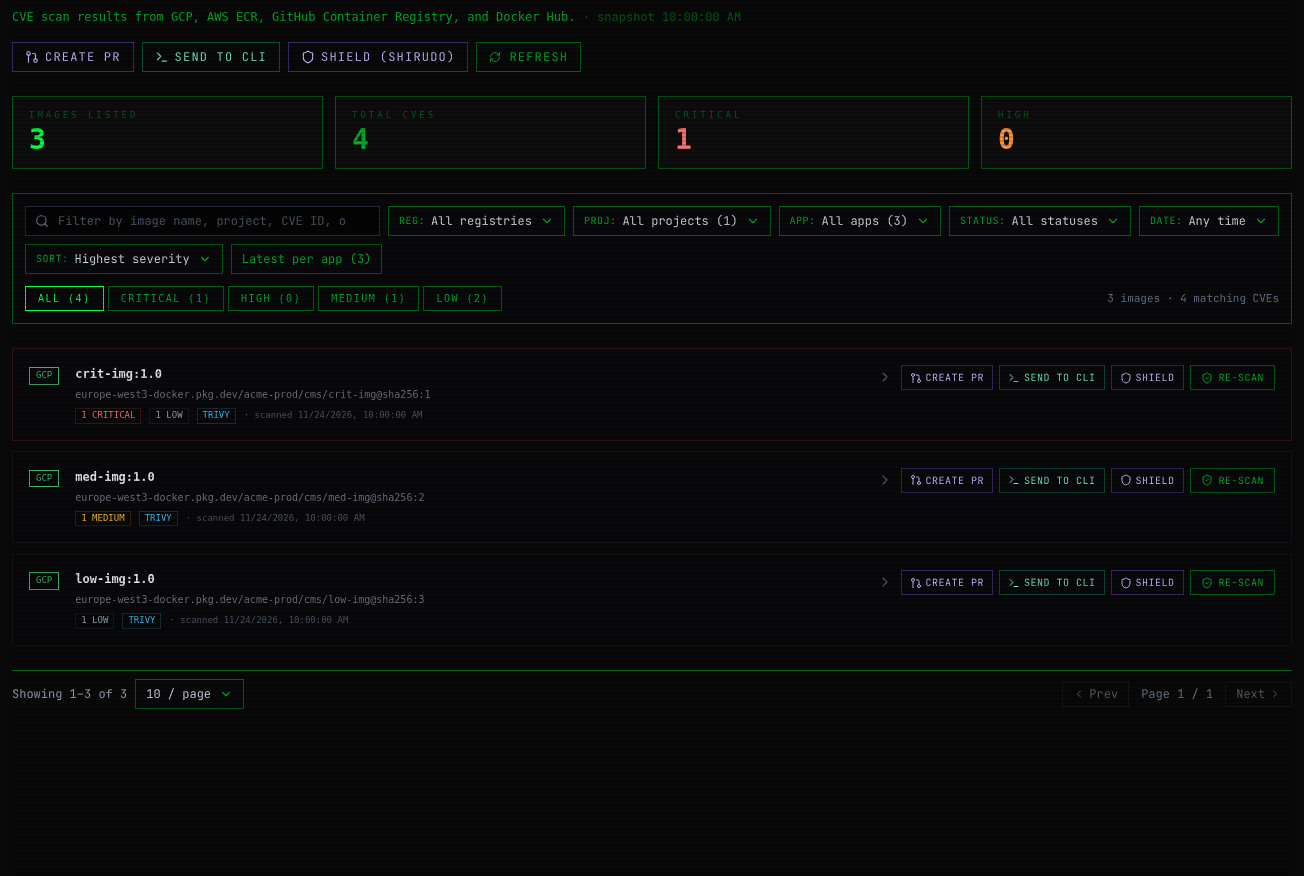
it: ContainerScanPage › allows multi-selecting Critical, High, and Medium severities without extra preset buttons
Expected: the text "crit-img:1.0" is shown, x1=75 y1=367 x2=162 y2=381
# Select Critical + Medium
Click the button "Critical (1)": [166, 299] box x1=108 y1=286 x2=224 y2=311
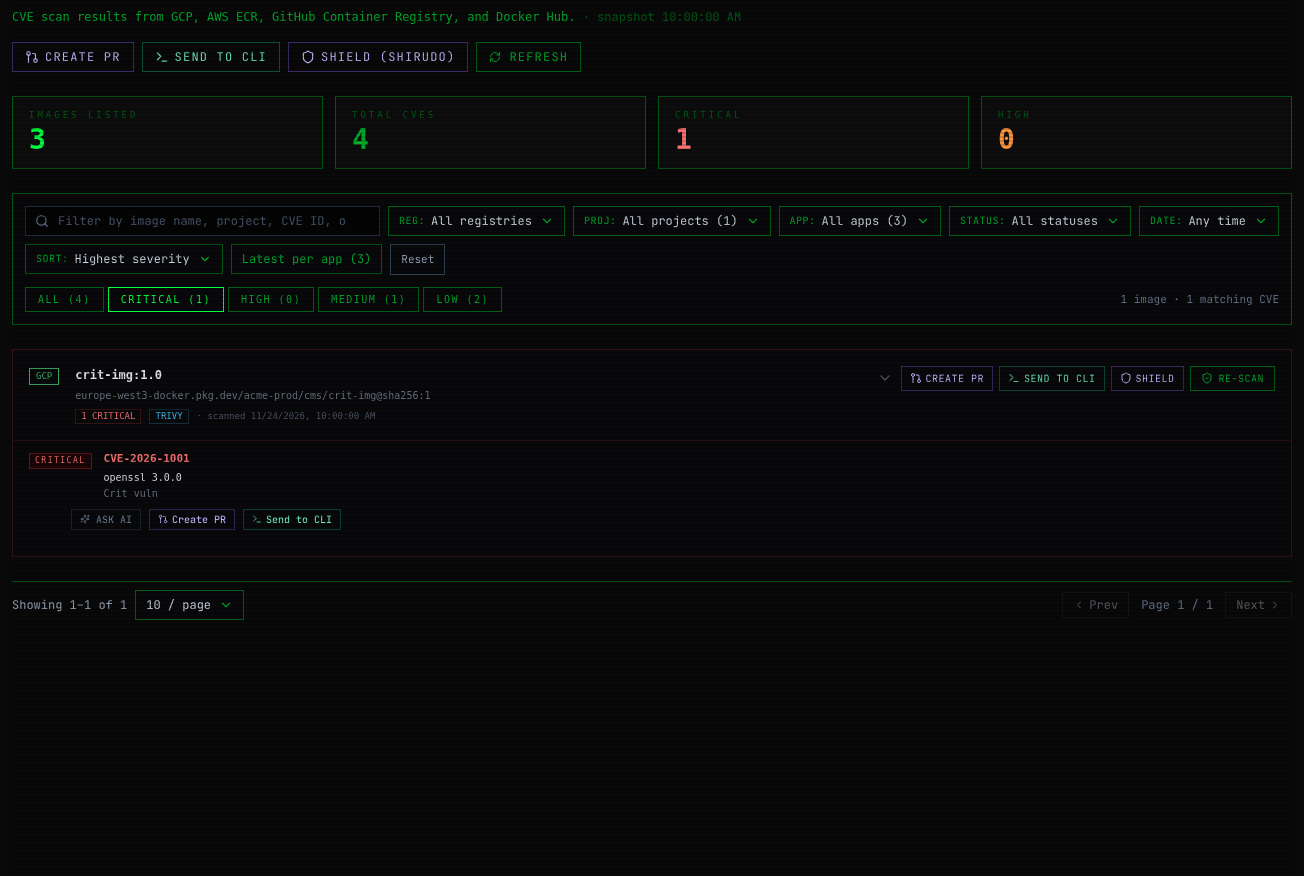
Click the button "Medium (1)": [369, 299] box x1=318 y1=287 x2=419 y2=312
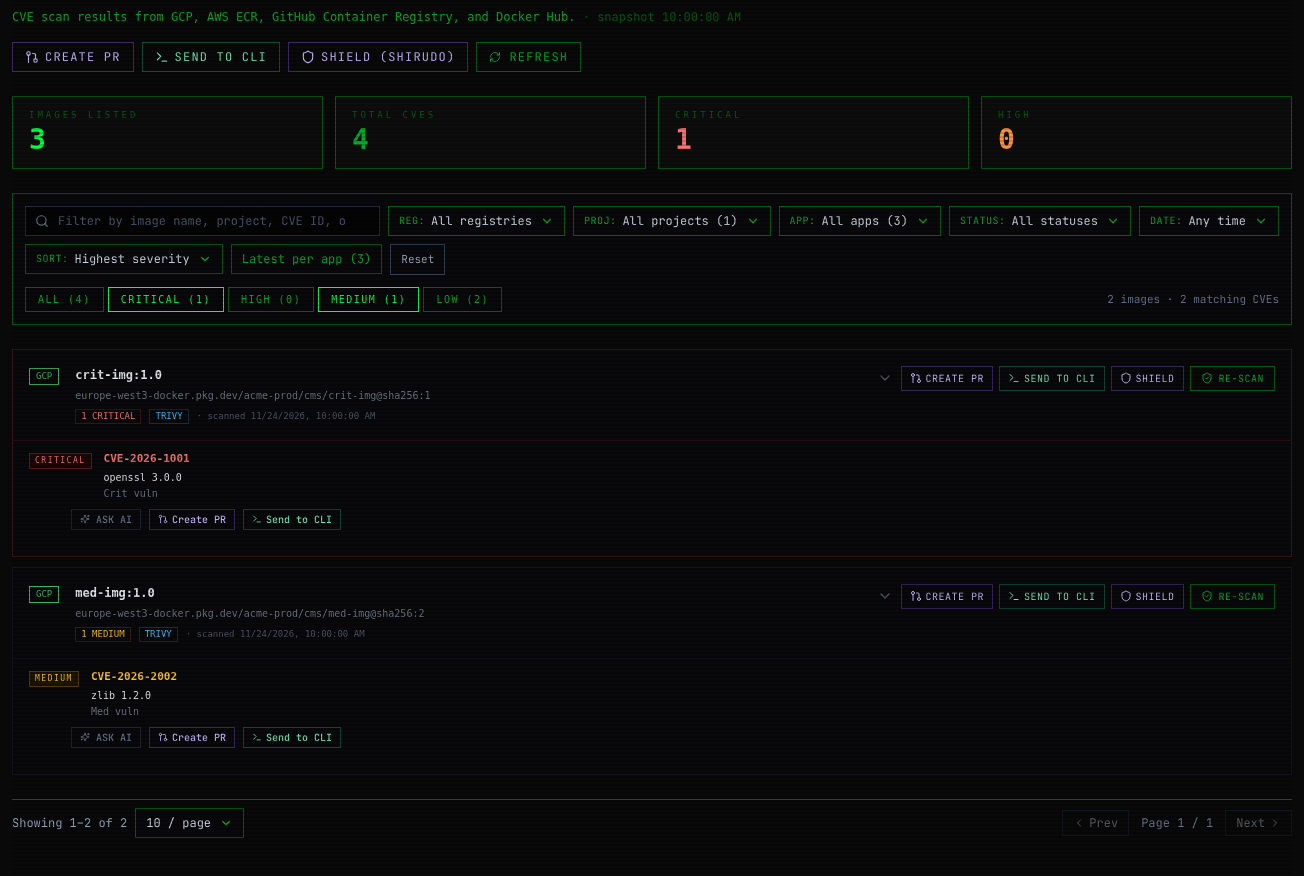
Expected: the text "crit-img:1.0" is shown, x1=75 y1=368 x2=162 y2=382
Expected: the text "med-img:1.0" is shown, x1=75 y1=586 x2=155 y2=600
Expected: the text "2 images · 2 matching CVEs" is shown, x1=1107 y1=291 x2=1279 y2=307
# Reset via All
Click the button "All (4)": [64, 299] box x1=25 y1=287 x2=104 y2=312
(page scrolled)
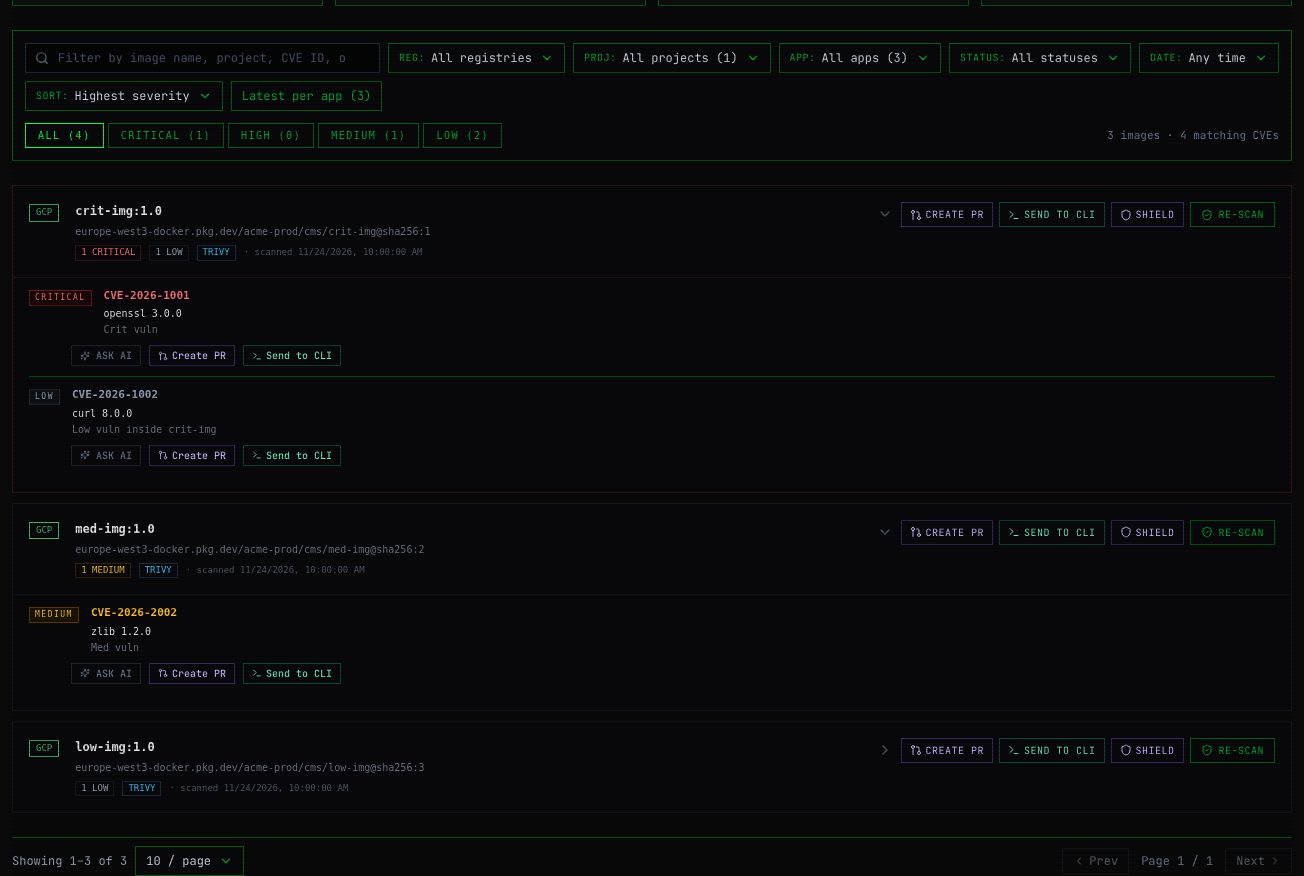
Expected: the text "low-img:1.0" is shown, x1=75 y1=740 x2=155 y2=754
